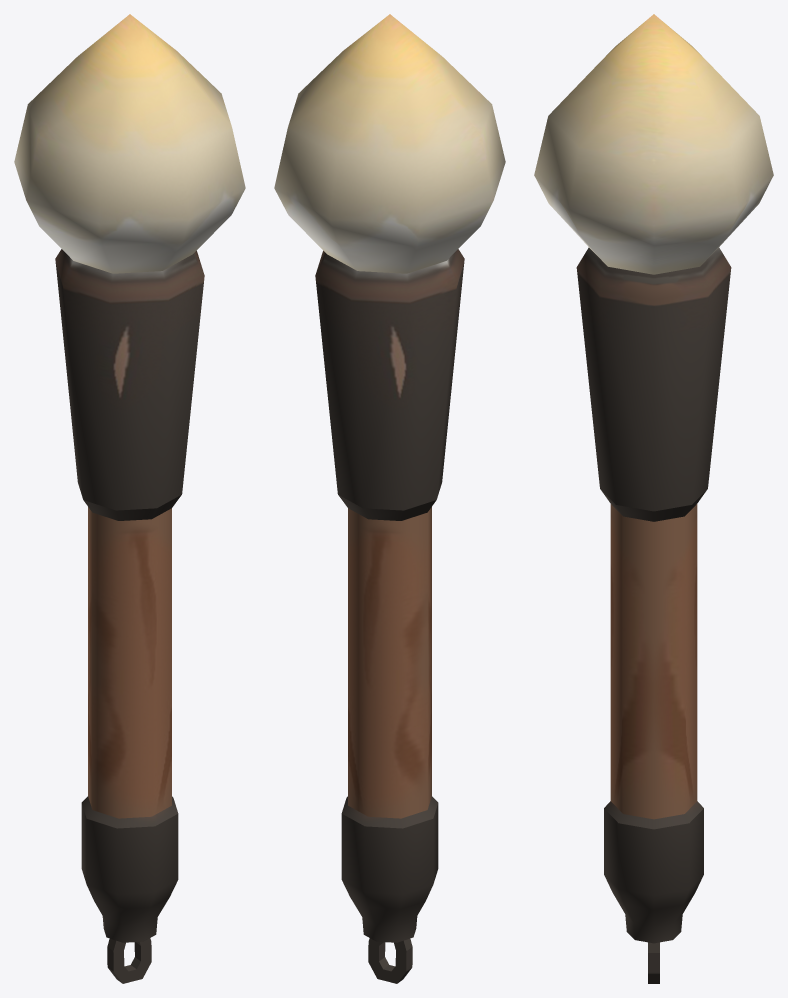
Rendered from brush-static-l1.glb.
3 renders of one model, left to right at view 1: azimuth 30°, elevation 25°; view 2: azimuth 150°, elevation 25°; view 3: azimuth 270°, elevation 25°, orthographic.
Visible parts, largest first — view 1: Brush_lv5; view 2: Brush_lv5; view 3: Brush_lv5.
Part boxes in pixels (x1,y1,x2,y2): Brush_lv5: [14, 14, 245, 983]; Brush_lv5: [274, 14, 505, 983]; Brush_lv5: [534, 14, 773, 983].
Bounding box in the file's own units: 34.48 × 153 × 34.48.
Materials: 1 (1 with a texture image).
